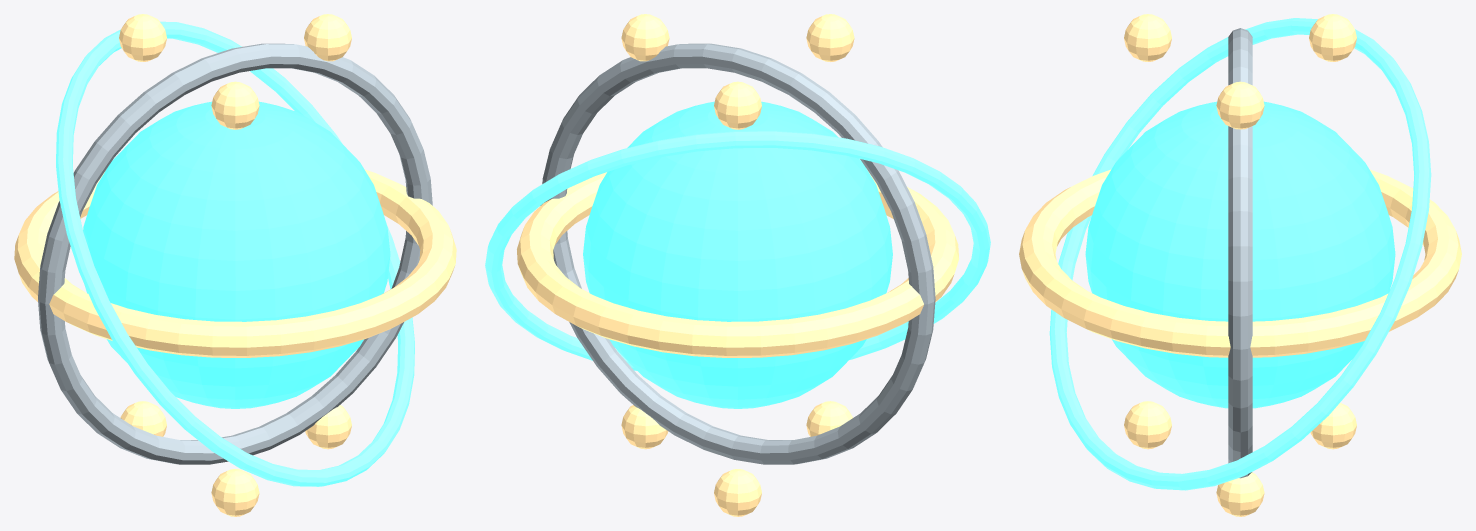
File: core.glb
3 renders of one model, left to right at view 1: azimuth 30°, elevation 25°; view 2: azimuth 150°, elevation 25°; view 3: azimuth 270°, elevation 25°, orthographic.
Visible parts, largest first — view 1: Energy reactor heart, Core orbital • vertical, Core orbital • horizontal, Core orbital • diagonal, floating conduit node 2, floating conduit node 5, floating conduit node 1, floating conduit node 0, floating conduit node 3, floating conduit node 4; view 2: Energy reactor heart, Core orbital • vertical, Core orbital • horizontal, Core orbital • diagonal, floating conduit node 2, floating conduit node 1, floating conduit node 4, floating conduit node 0, floating conduit node 3, floating conduit node 5; view 3: Energy reactor heart, Core orbital • horizontal, Core orbital • diagonal, Core orbital • vertical, floating conduit node 0, floating conduit node 5, floating conduit node 1, floating conduit node 2, floating conduit node 3, floating conduit node 4.
Part boxes in pixels (x1,y1,x2,y2): Energy reactor heart: [83, 101, 390, 408]; Core orbital • vertical: [38, 43, 432, 464]; Core orbital • horizontal: [14, 169, 456, 357]; Core orbital • diagonal: [56, 21, 414, 486]; floating conduit node 2: [211, 81, 259, 129]; floating conduit node 5: [211, 469, 259, 516]; floating conduit node 1: [119, 14, 166, 61]; floating conduit node 0: [304, 14, 351, 61]; floating conduit node 3: [305, 405, 351, 449]; floating conduit node 4: [120, 401, 166, 436]; Energy reactor heart: [583, 101, 892, 408]; Core orbital • vertical: [540, 43, 935, 464]; Core orbital • horizontal: [517, 170, 958, 357]; Core orbital • diagonal: [485, 131, 990, 370]; floating conduit node 2: [806, 14, 854, 61]; floating conduit node 1: [714, 81, 761, 129]; floating conduit node 4: [714, 469, 761, 516]; floating conduit node 0: [621, 14, 669, 61]; floating conduit node 3: [621, 405, 668, 449]; floating conduit node 5: [806, 401, 852, 436]; Energy reactor heart: [1085, 101, 1395, 408]; Core orbital • horizontal: [1019, 169, 1461, 357]; Core orbital • diagonal: [1049, 18, 1431, 490]; Core orbital • vertical: [1228, 28, 1252, 478]; floating conduit node 0: [1216, 81, 1264, 129]; floating conduit node 5: [1124, 401, 1171, 449]; floating conduit node 1: [1309, 14, 1356, 61]; floating conduit node 2: [1124, 14, 1171, 61]; floating conduit node 3: [1216, 472, 1264, 516]; floating conduit node 4: [1310, 403, 1356, 449].
Size of the model in its own units: 1.32 by 1.38 by 1.29.
